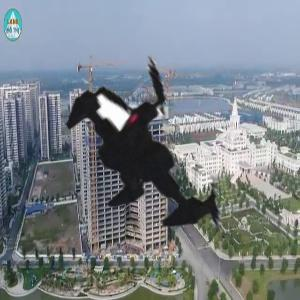drone: (15, 7, 299, 291)
